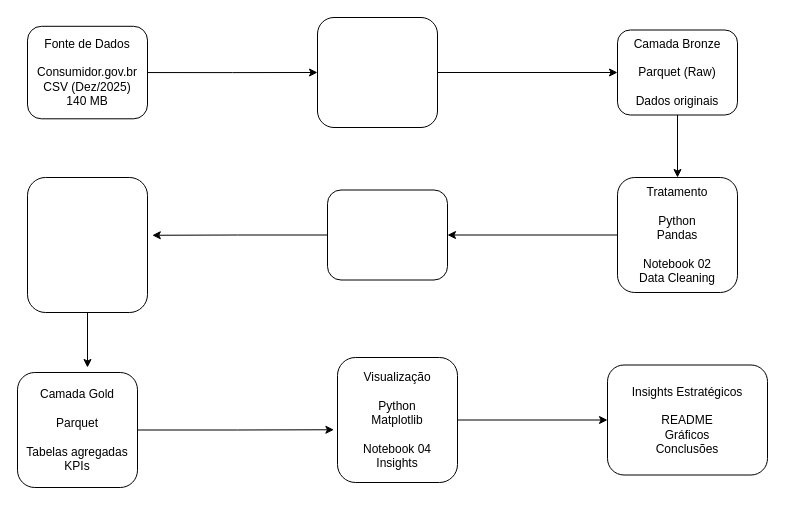
The diagram is 785 pixels wide and 505 high, and some of its shapes have lost their labels. The box of each missing label's shape, as (x1, y1, x2, y2) in pixels:
Camada Silver Parquet (Clean) Dados tratados: (326, 189, 448, 280)
Ingestão Python Pandas Notebook 01 Exploração: (316, 16, 438, 128)
Processamento Analítico DuckDB SQL Notebook 03 Agregações: (26, 176, 148, 312)
